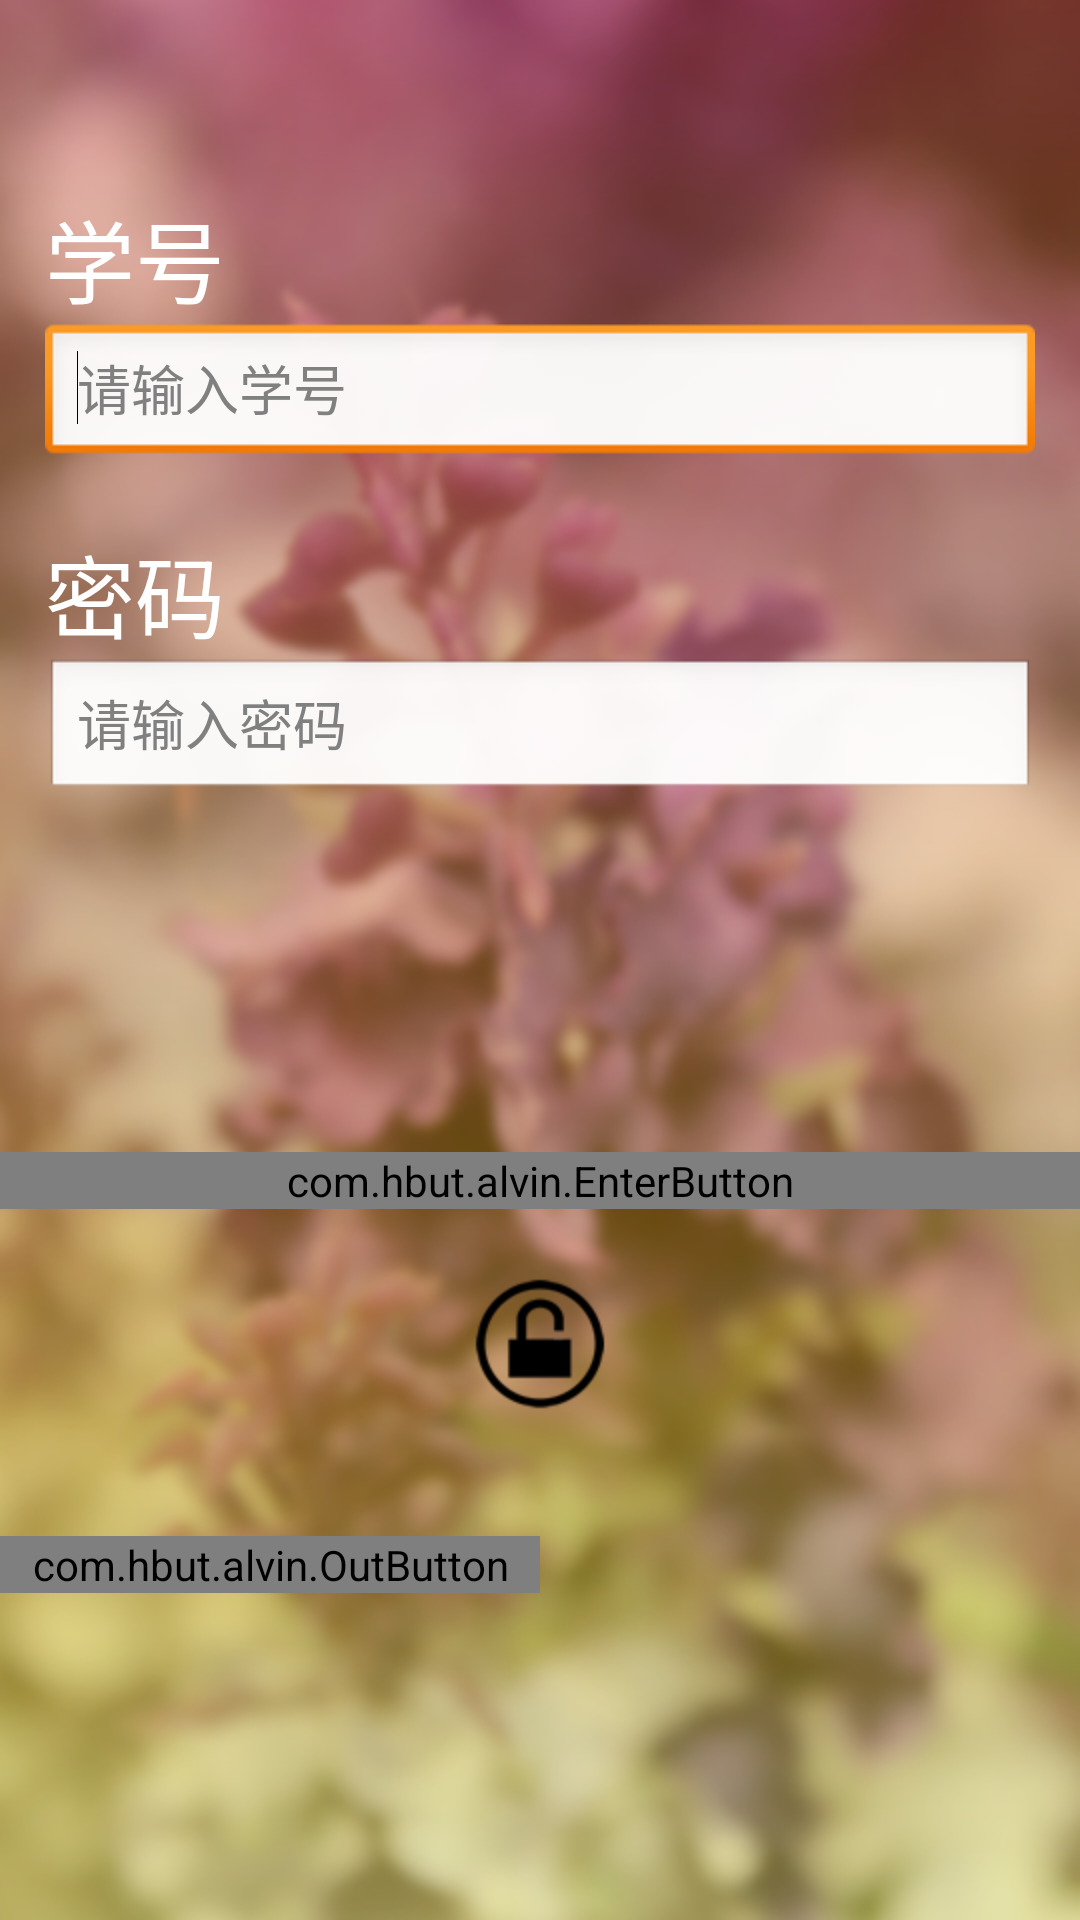

Icon click points for this 1080 x 1920 phone screenshot, format (x,y):
permission: (540,1344)
